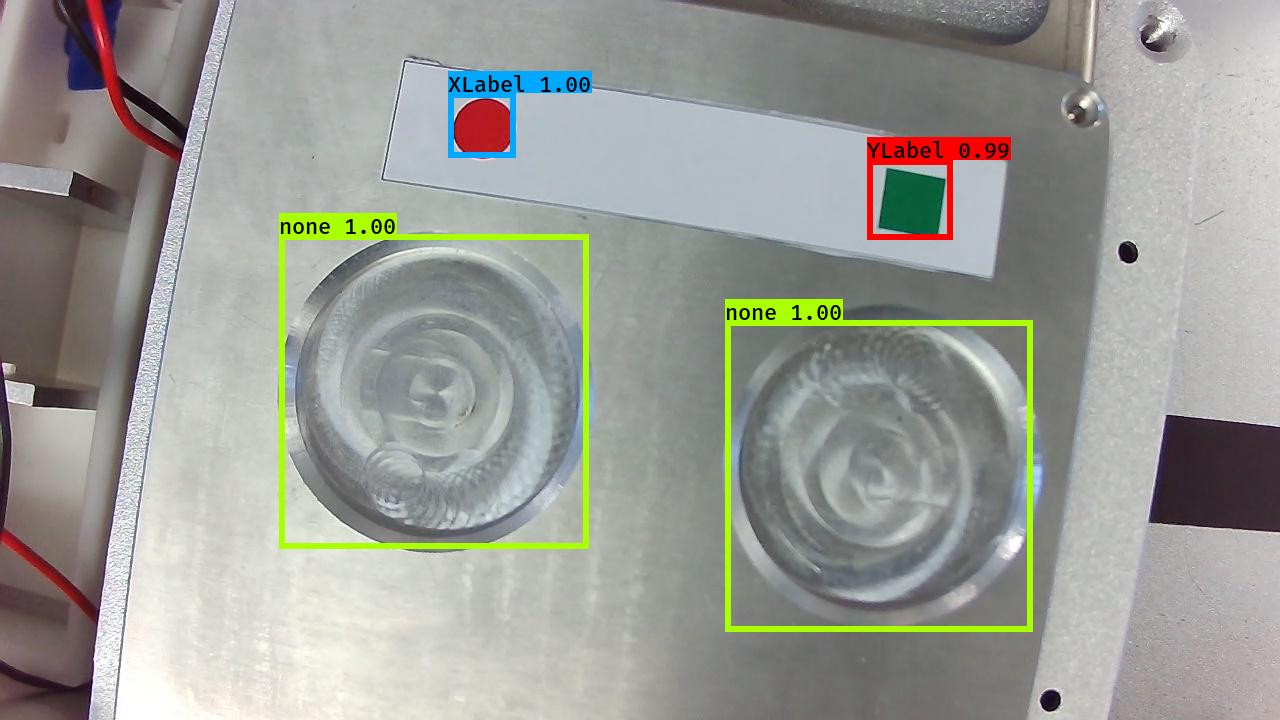XLabel: (451, 93, 517, 159)
YLabel: (874, 168, 947, 241)
none: (273, 227, 602, 560), (716, 304, 1040, 634)
